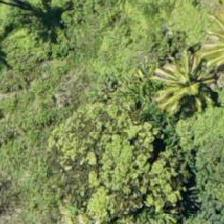coconut_tree: (137, 41, 223, 131)
